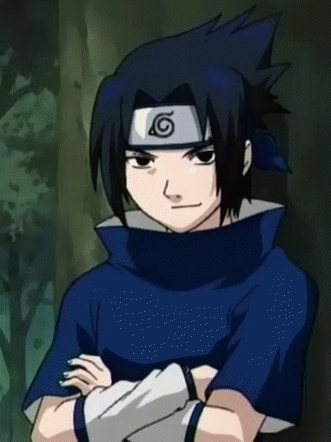sasuke: (120, 99, 254, 233)
